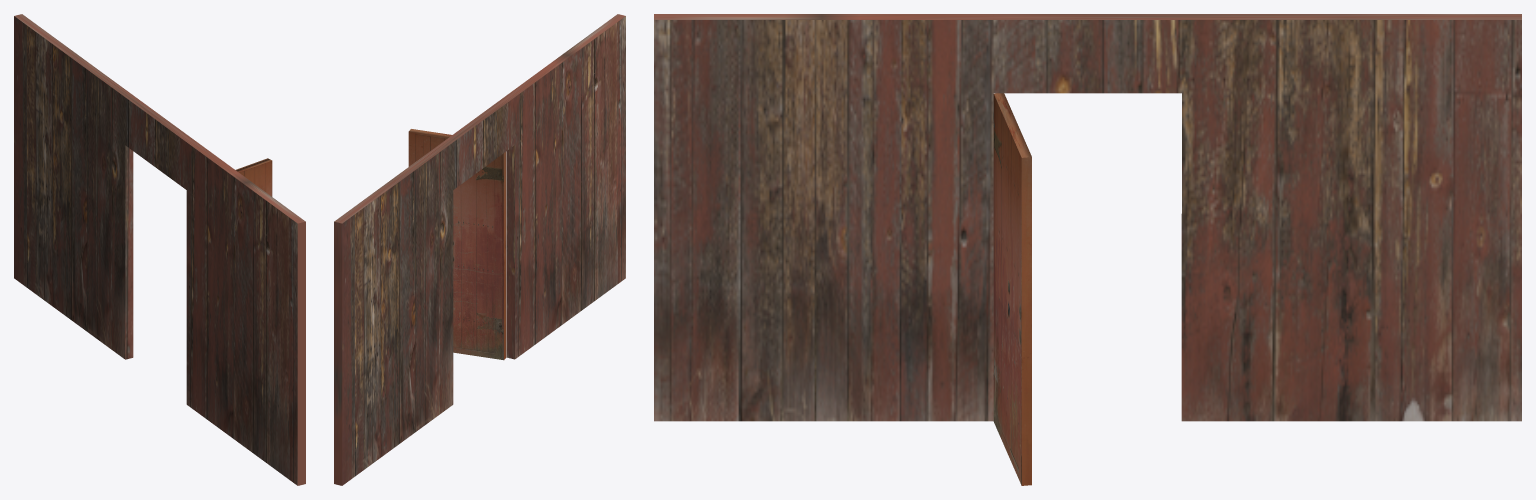
Rendered from Door.fbx.
3 renders of one model, left to right at view 1: azimuth 30°, elevation 25°; view 2: azimuth 150°, elevation 25°; view 3: azimuth 270°, elevation 25°, orthographic. The views are drawn at different scales.
Parts seen in each view (by area): view 1: pCube1, pPlane1; view 2: pCube1, pPlane1; view 3: pCube1, pPlane1.
Boxes of the visible parts, x1,y1,x2,y2 form: pCube1: [14, 14, 305, 485]; pPlane1: [236, 158, 272, 196]; pCube1: [334, 14, 625, 485]; pPlane1: [408, 129, 506, 360]; pCube1: [654, 14, 1521, 421]; pPlane1: [993, 93, 1031, 485].
Bounding box in the file's own units: 3.21 × 8.5 × 16.66.
2 materials, 2 textured.
